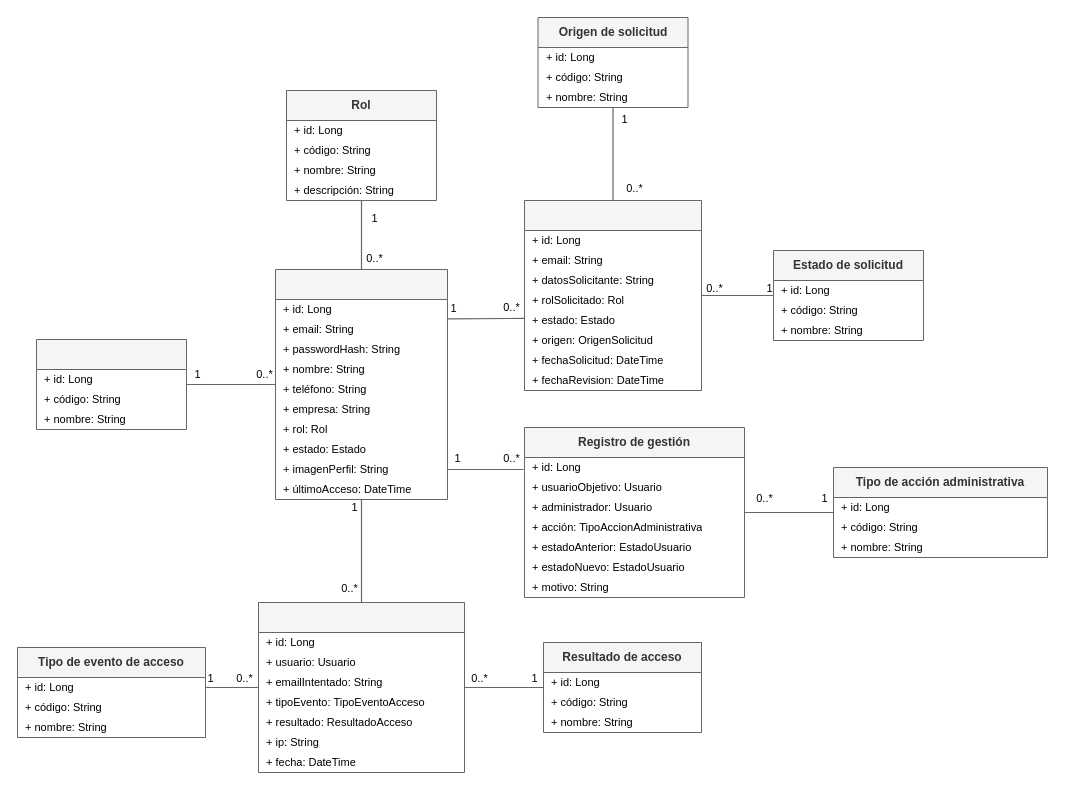
This 1065x790 diagram has some shape labels left out. The box of each missing label's shape, as (x1, y1, x2, y2) in pixels:
Estado de usuario: (36, 338, 186, 430)
Registro de acceso: (258, 602, 464, 772)
Solicitud de registro: (524, 200, 702, 390)
Usuario: (274, 268, 448, 500)
